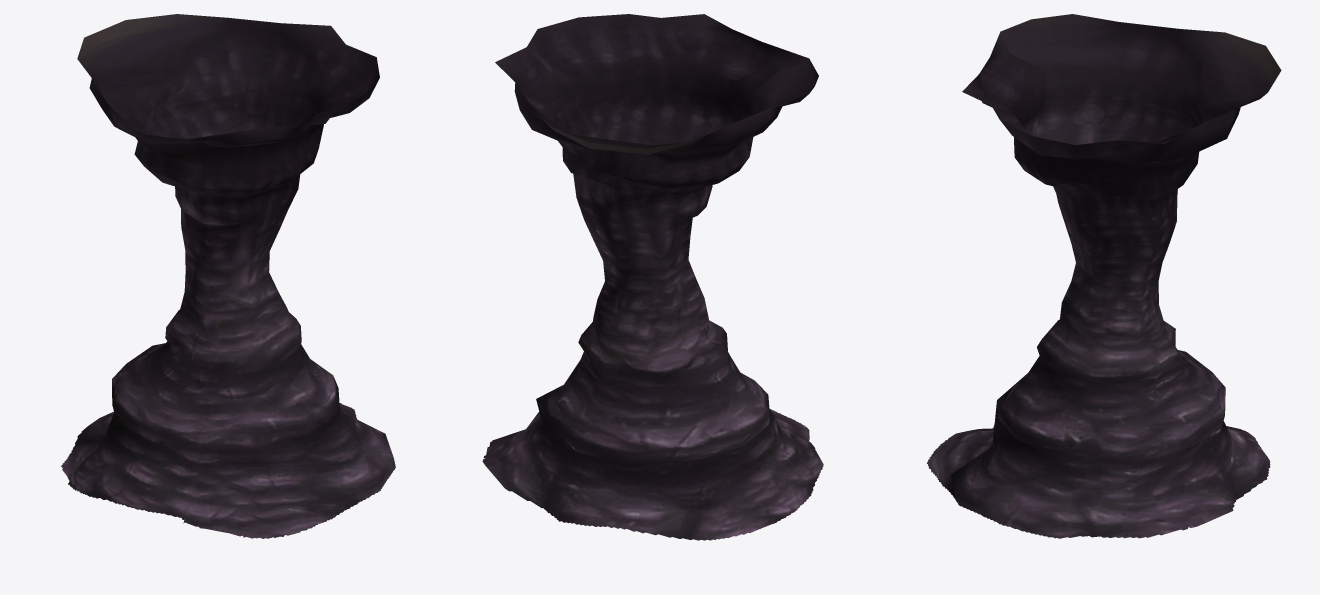
The model's file is cave_column_02.fbx.
3 views of the same model, side by side, from view 1: azimuth 30°, elevation 25°; view 2: azimuth 150°, elevation 25°; view 3: azimuth 270°, elevation 25° (orthographic). The views are drawn at different scales.
Parts seen in each view (by area): view 1: cave_tileset/column02_mat; view 2: cave_tileset/column02_mat; view 3: cave_tileset/column02_mat.
Boxes of the visible parts, x1,y1,x2,y2 form: cave_tileset/column02_mat: [61, 14, 395, 538]; cave_tileset/column02_mat: [482, 14, 823, 540]; cave_tileset/column02_mat: [927, 14, 1281, 538].
Bounding box in the file's own units: 20.02 × 22.8 × 20.61.
